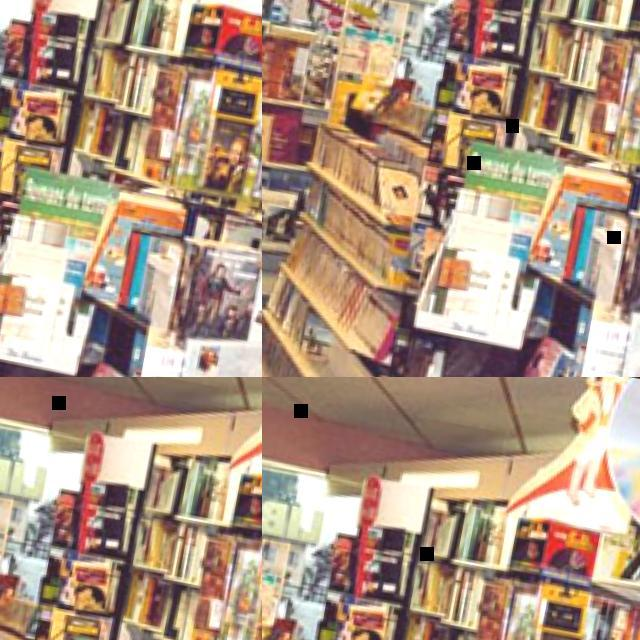safety_cone: (268, 236, 302, 277), (498, 288, 531, 330), (262, 251, 284, 288), (571, 295, 589, 323)
